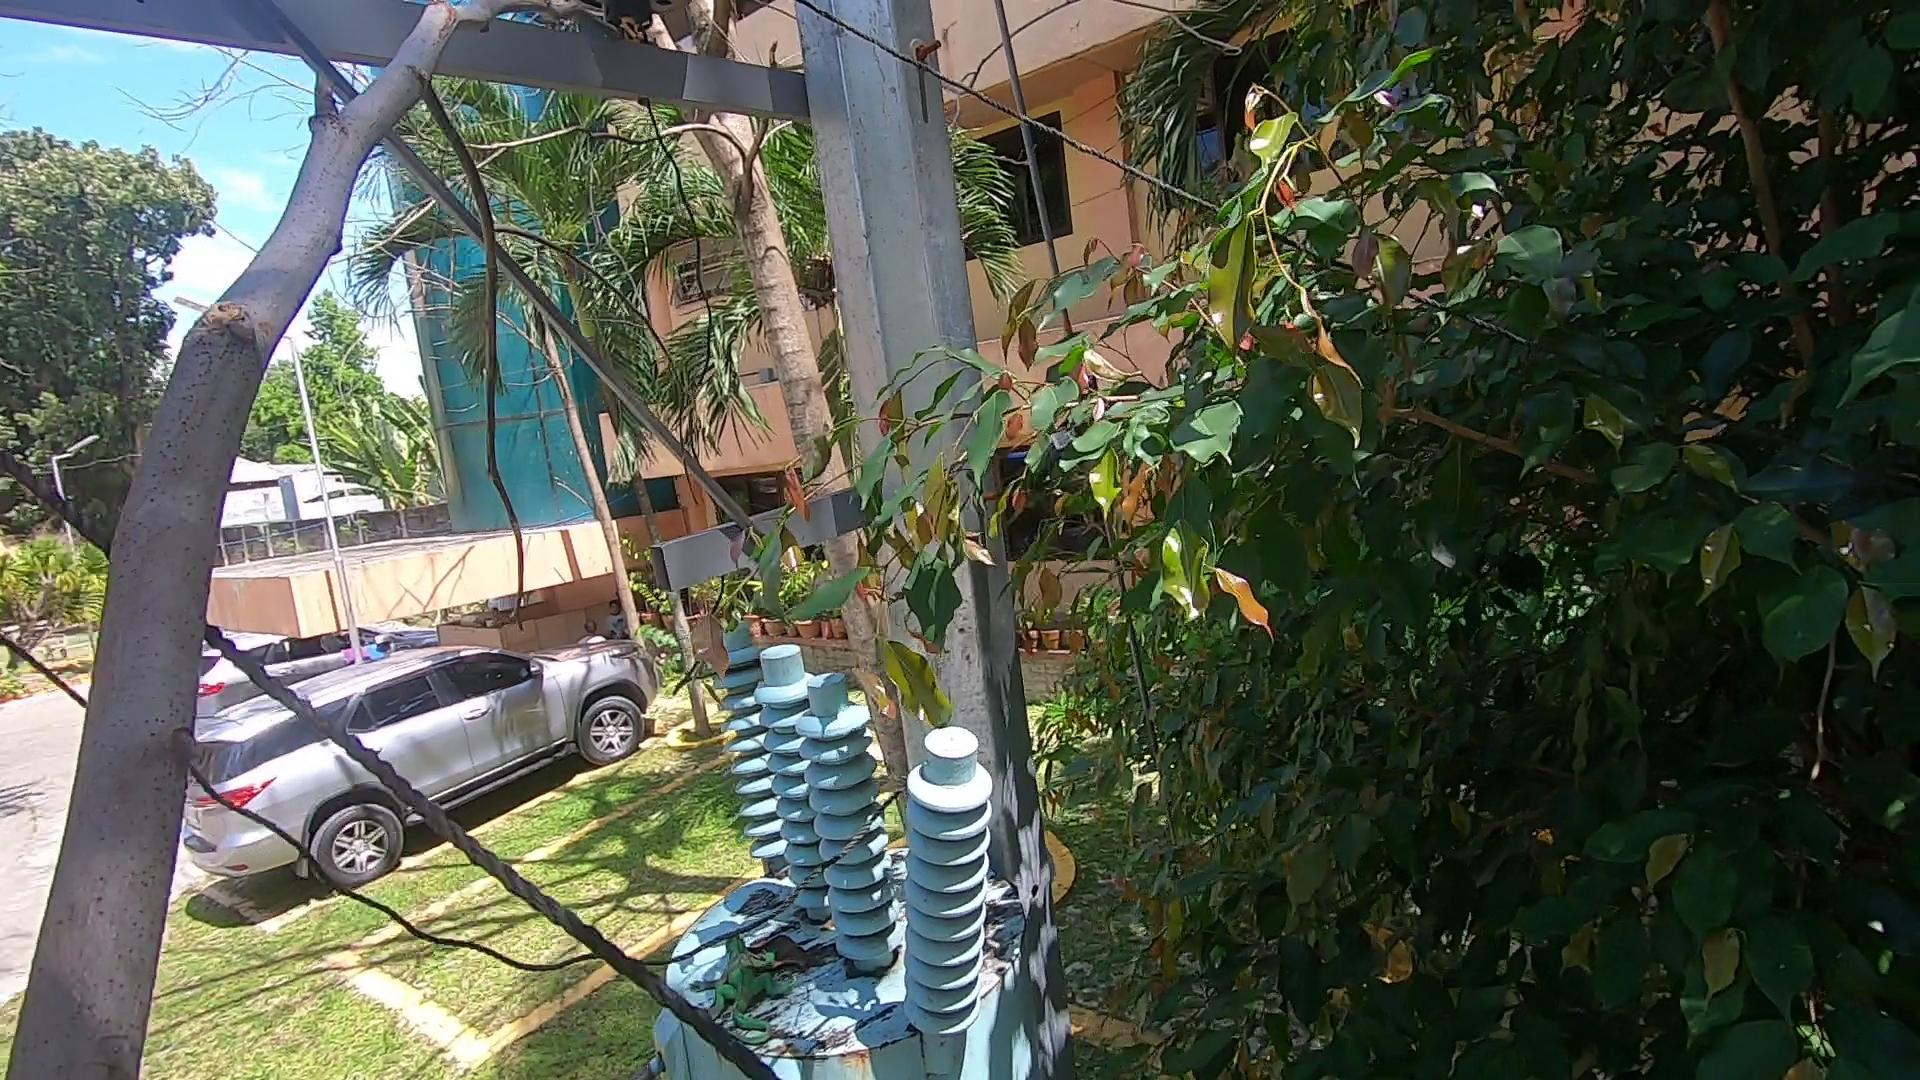branch with leaves: (683, 422, 1004, 741)
leaf: (733, 934, 847, 986), (981, 897, 1029, 957)
tree branch: (22, 20, 467, 1080)
